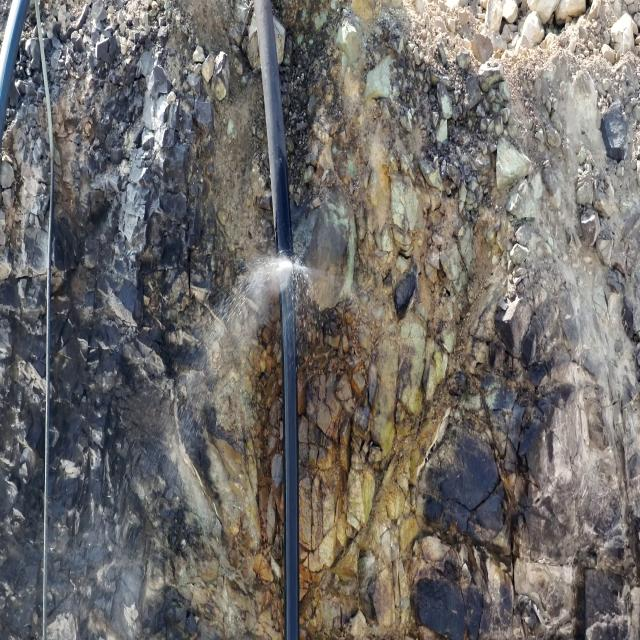leak: (161, 235, 332, 461)
